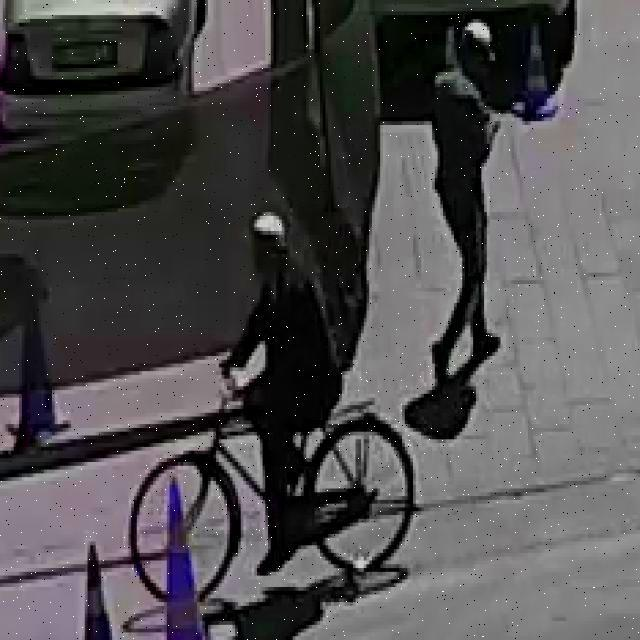Car: (0, 0, 201, 162)
Cycle: (113, 217, 424, 617)
